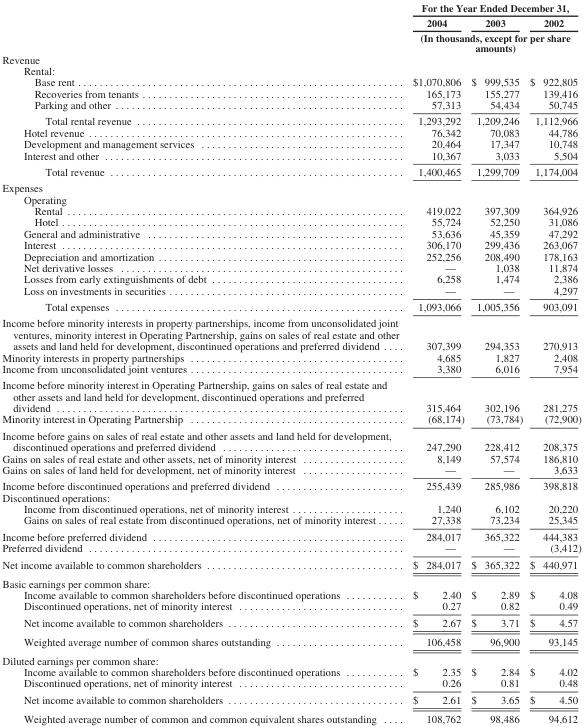table: (1, 1, 580, 724)
table column: (1, 1, 405, 724), (405, 1, 467, 724), (467, 1, 525, 724), (525, 1, 580, 724)
table column header: (1, 1, 580, 53)
table projected row header: (1, 573, 580, 588), (1, 650, 580, 665), (1, 179, 580, 193), (1, 53, 580, 64), (1, 64, 580, 75), (1, 193, 580, 204), (1, 491, 580, 502)
table row: (1, 314, 580, 351), (1, 376, 580, 413), (1, 426, 580, 452), (1, 29, 580, 53), (1, 631, 580, 650), (1, 555, 580, 573), (1, 613, 580, 631), (1, 690, 580, 708), (1, 163, 580, 179), (1, 298, 580, 314), (1, 708, 580, 724), (1, 14, 580, 29), (1, 573, 580, 588), (1, 650, 580, 665), (1, 98, 580, 112), (1, 112, 580, 126), (1, 149, 580, 163), (1, 179, 580, 193), (1, 284, 580, 298), (1, 362, 580, 376), (1, 463, 580, 477), (1, 477, 580, 491), (1, 527, 580, 541), (1, 541, 580, 555), (1, 599, 580, 613), (1, 676, 580, 690), (1, 1, 580, 14), (1, 413, 580, 426), (1, 514, 580, 527), (1, 75, 580, 87), (1, 137, 580, 149), (1, 204, 580, 216), (1, 238, 580, 250), (1, 272, 580, 284), (1, 502, 580, 514), (1, 53, 580, 64), (1, 64, 580, 75), (1, 87, 580, 98), (1, 126, 580, 137), (1, 193, 580, 204), (1, 216, 580, 227), (1, 227, 580, 238), (1, 250, 580, 261), (1, 261, 580, 272), (1, 351, 580, 362), (1, 452, 580, 463), (1, 491, 580, 502), (1, 588, 580, 599), (1, 665, 580, 676)
table spanning cell: (405, 29, 580, 53), (405, 1, 580, 14)
